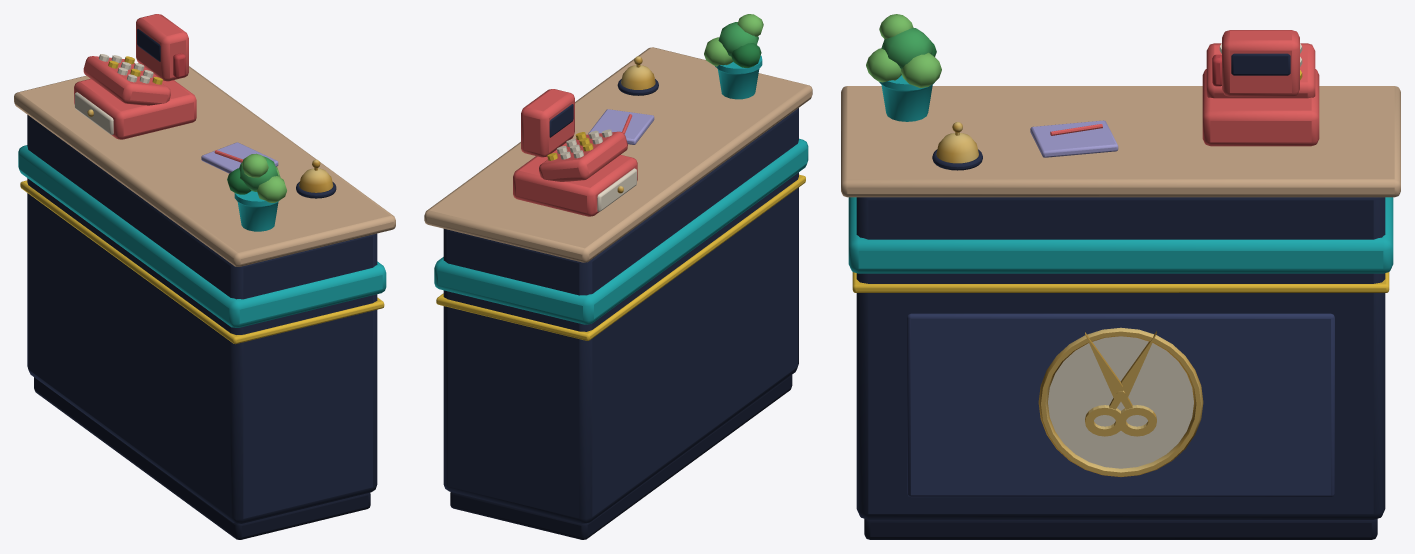
File: reception.glb
3 renders of one model, left to right at view 1: azimuth 30°, elevation 25°; view 2: azimuth 150°, elevation 25°; view 3: azimuth 270°, elevation 25°, orthographic. The views are drawn at different scales.
Parts seen in each view (by area): view 1: Reception; view 2: Reception; view 3: Reception.
Boxes of the visible parts, <box> form: Reception: <box>14,14,395,539</box>; Reception: <box>424,14,812,539</box>; Reception: <box>841,14,1400,539</box>.
Size of the model in its own units: 0.6124 by 1.35 by 1.44.
